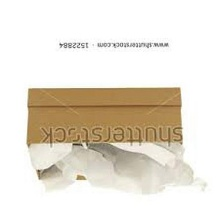book: (21, 82, 188, 184)
tissue: (20, 133, 216, 204)
